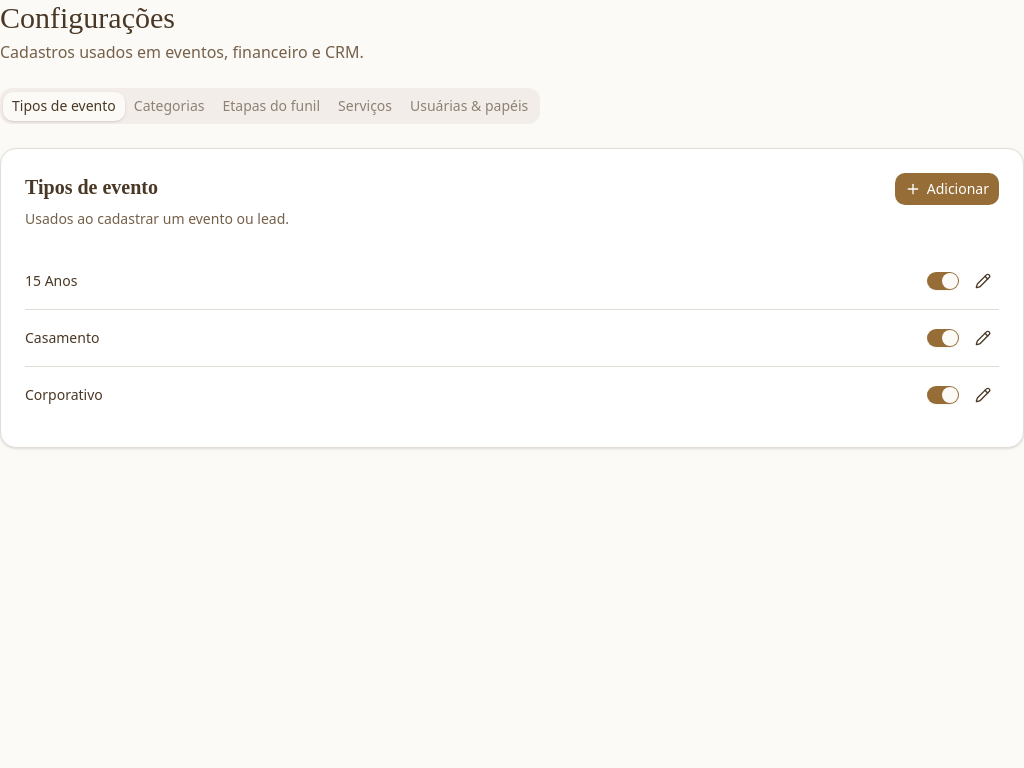
Scenario: ConfiguracoesPage › creating an event type via the dialog adds it to the list
Expected: the text "Casamento" is shown, [25,328,99,348]
Click the button "Adicionar" at (947, 189), box [895,173,999,205]
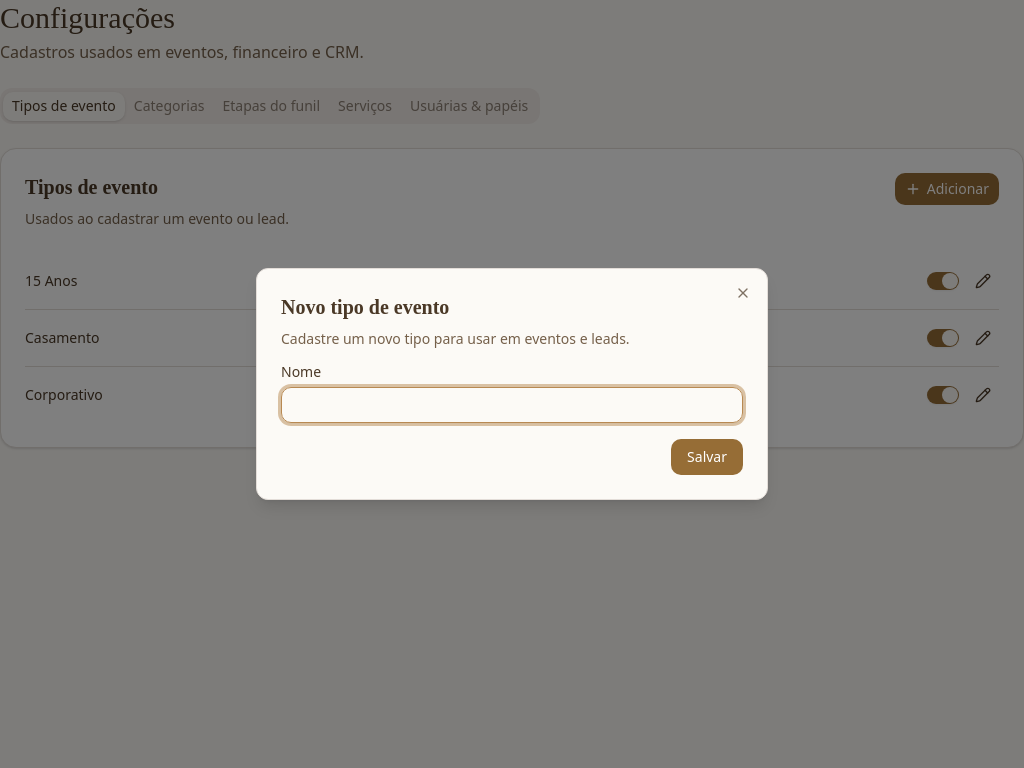
Type "Bodas de Prata" into the field labelled "Nome" at (512, 405), box [281,387,743,423]
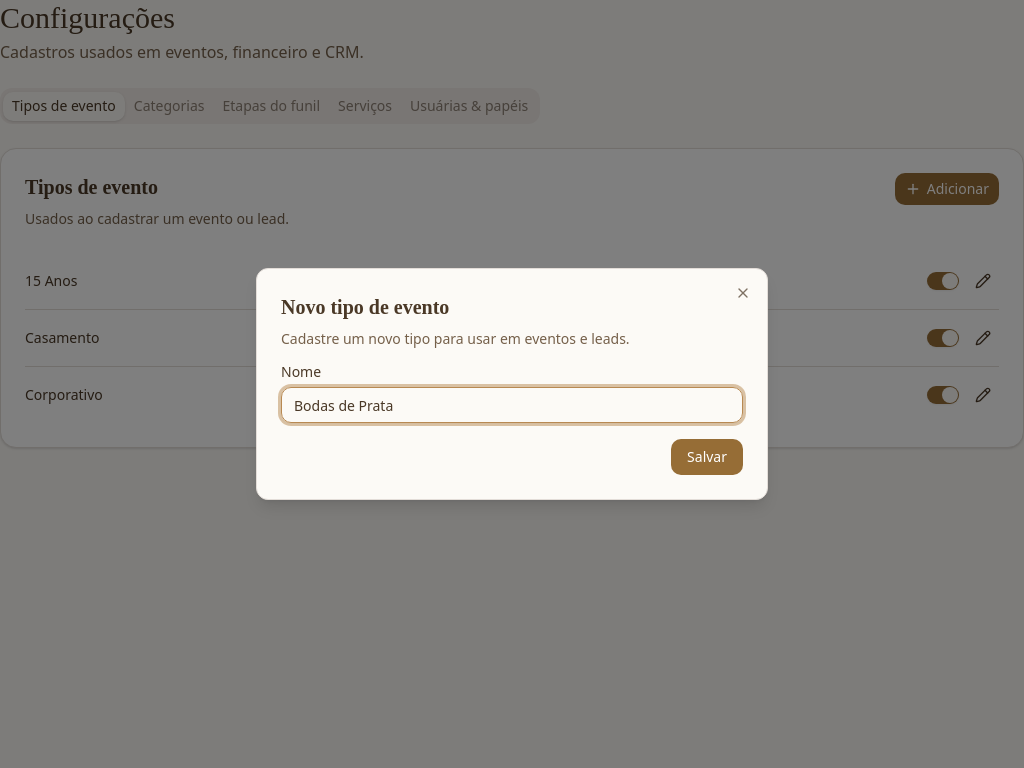
Click the button "Salvar" at (707, 457), box [671,439,743,475]
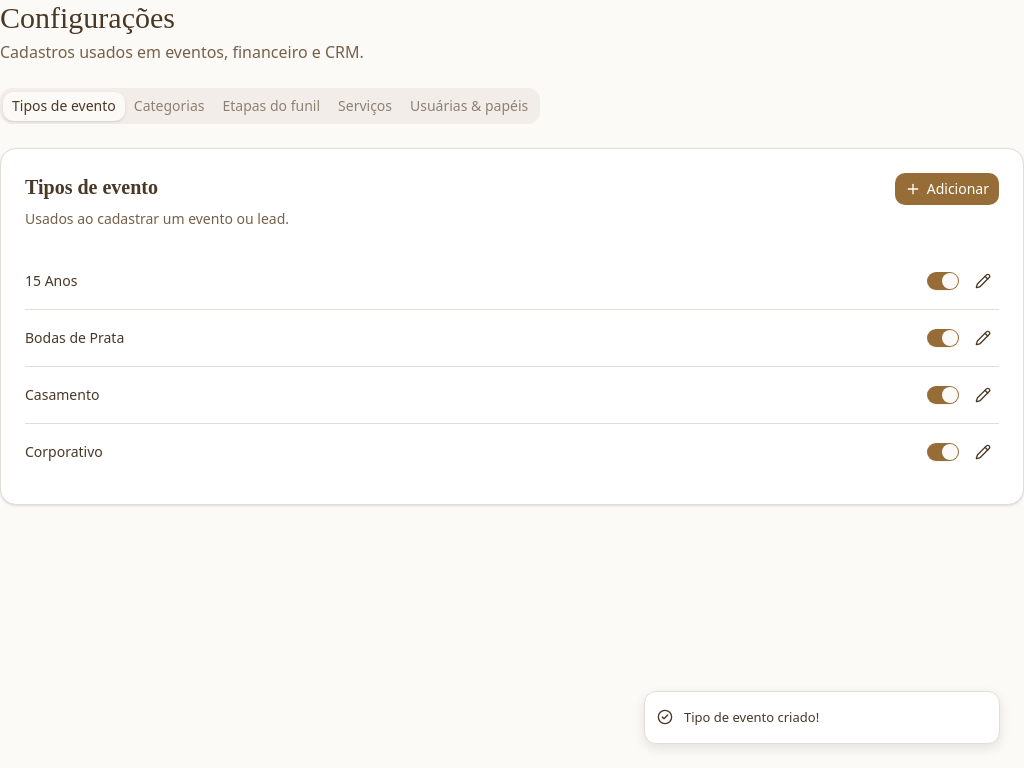
Expected: the text "Bodas de Prata" is shown, [25,328,124,348]
